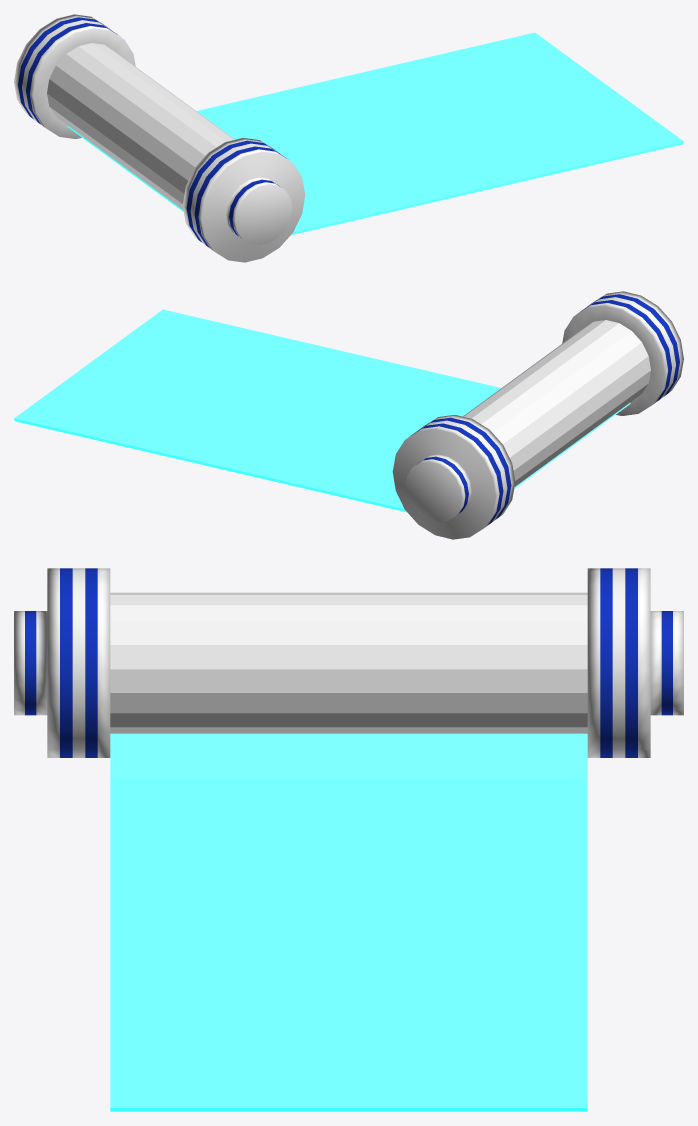
Rendered from scroll.FBX.
3 renders of one model, top to bottom at view 1: azimuth 30°, elevation 25°; view 2: azimuth 150°, elevation 25°; view 3: azimuth 270°, elevation 25°, orthographic. The views are drawn at different scales.
Parts seen in each view (by area): view 1: Cylinder005; view 2: Cylinder005; view 3: Cylinder005.
Boxes of the visible parts, x1=… form: Cylinder005: x1=14, y1=14, x2=683, y2=262; Cylinder005: x1=14, y1=291, x2=683, y2=539; Cylinder005: x1=14, y1=568, x2=683, y2=1111.
Bounding box in the file's own units: 1294 × 281 × 935.
